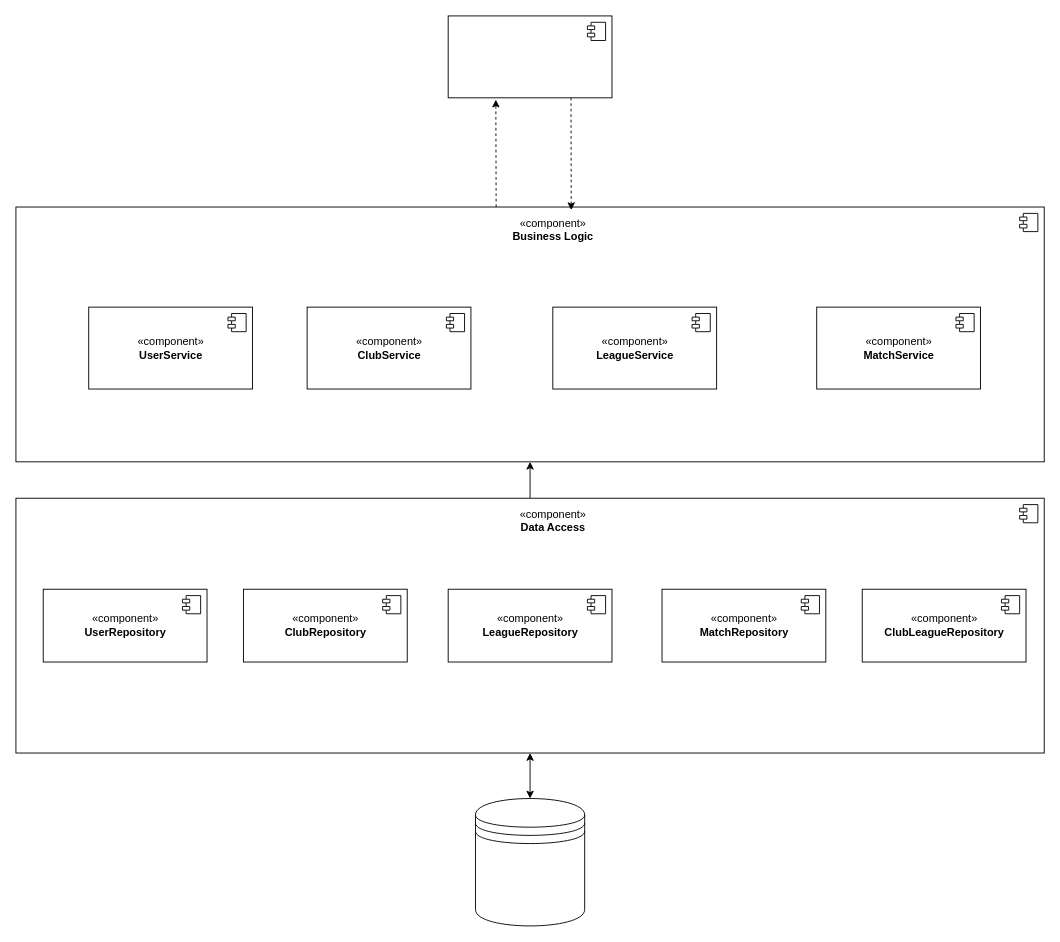
The diagram is 1060 pixels wide and 942 high, and some of its shapes have lost their labels. Here are the shapes that lost their labels. From the top down, the centre of each, then its label:
At point 529,56: "«component» User Interface".
At point 530,862: "DataBase".
